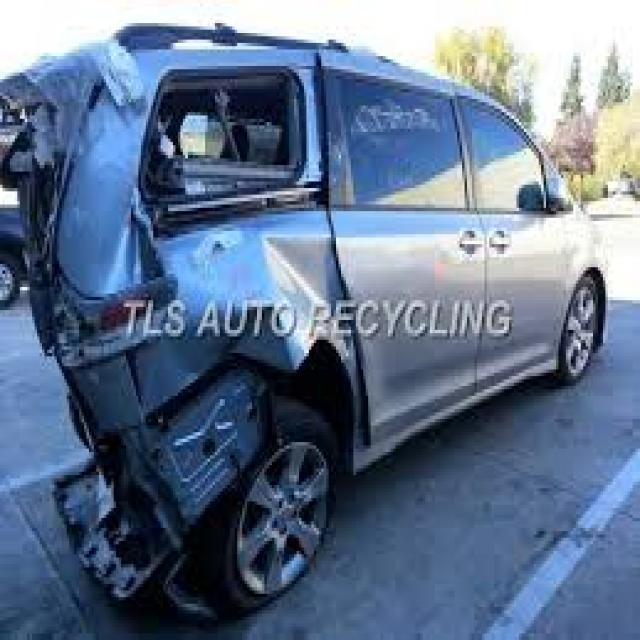severe: (24, 74, 307, 571)
